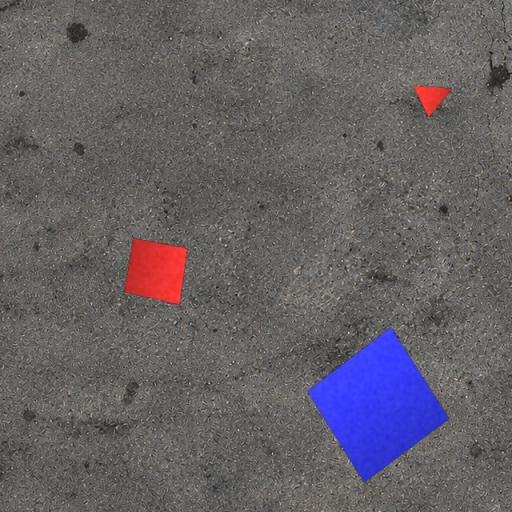BLUE_SQUARE: (306, 326, 450, 484)
RED_SQUARE: (123, 238, 189, 306)
